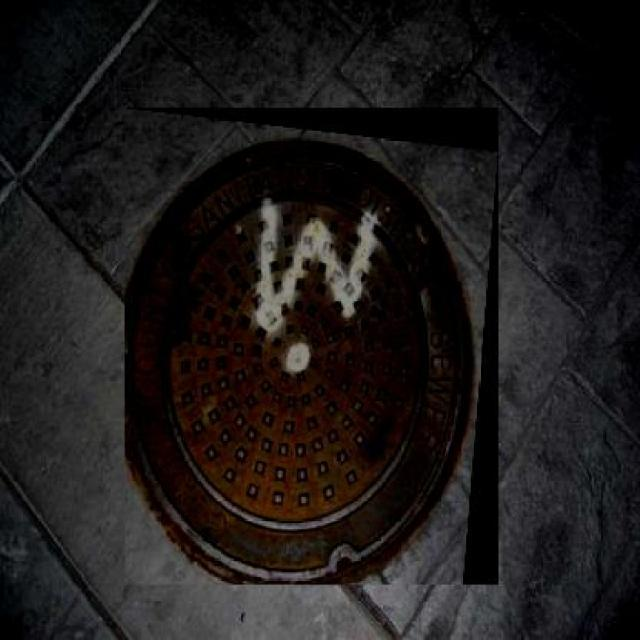Manhole: (124, 104, 498, 582)
